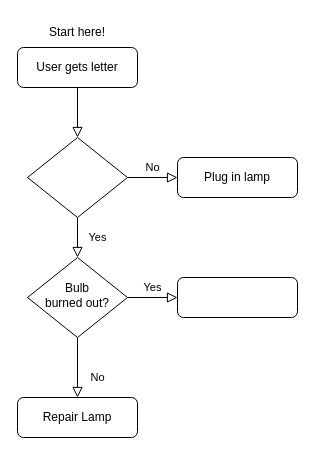
This 315x455 diagram has some shape labels left out. Each missing label, with the centre of its shape:
"Player" belongs at (x=77, y=177).
"Replace Bulb" belongs at (x=237, y=297).
